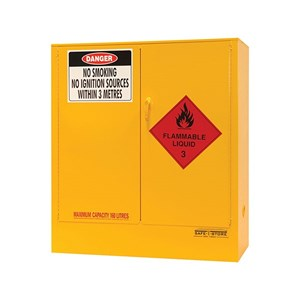FlammableLiquid: (150, 95, 229, 174)
